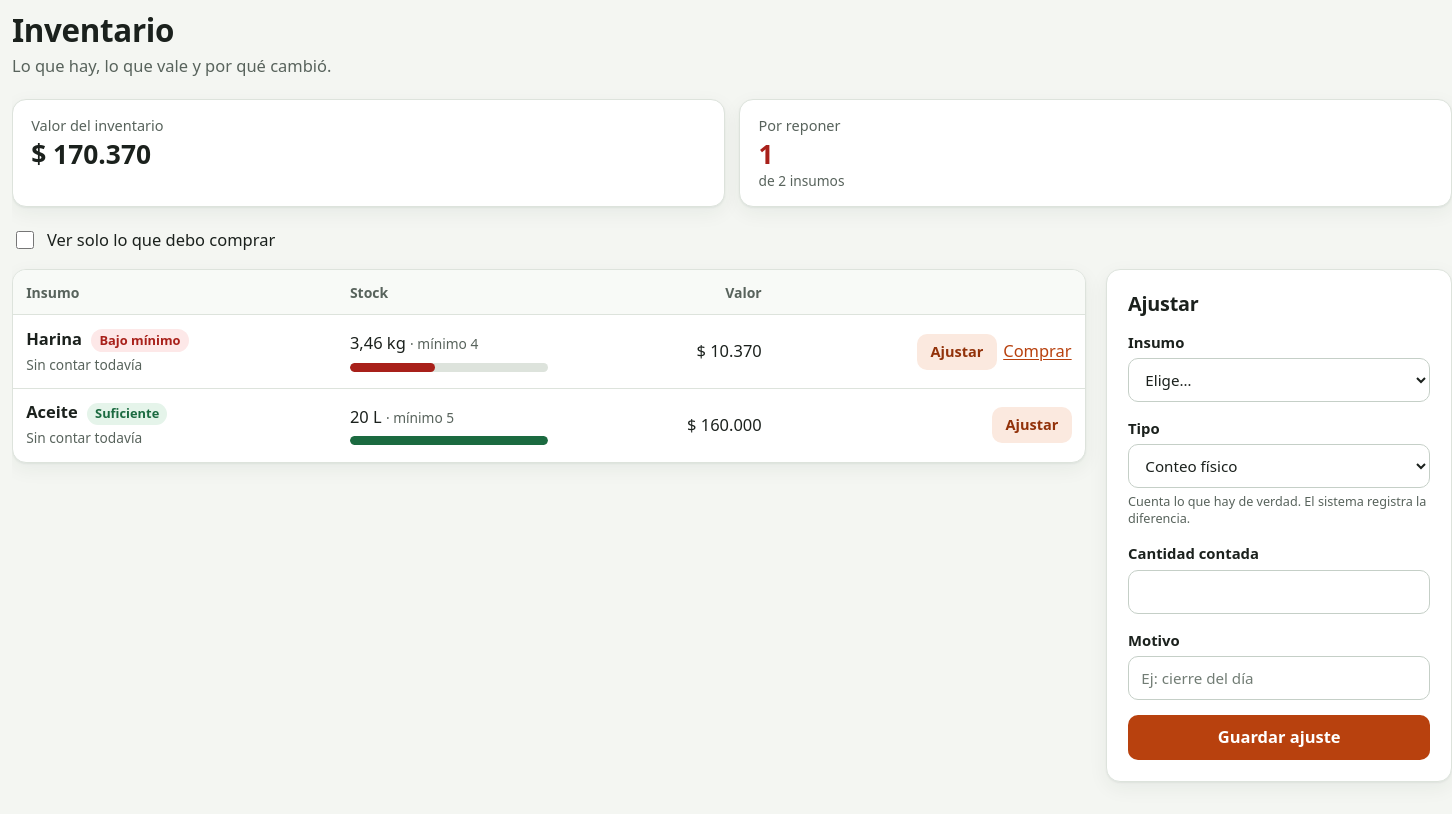
HU-30 Inventario claro (funcionales) › CA-4: ajustar desde la fila deja elegido el insumo y dice cuánto hay
Click the button with aria-label "Ajustar Harina".
click(957, 352)  # box x1=917 y1=334 x2=997 y2=370
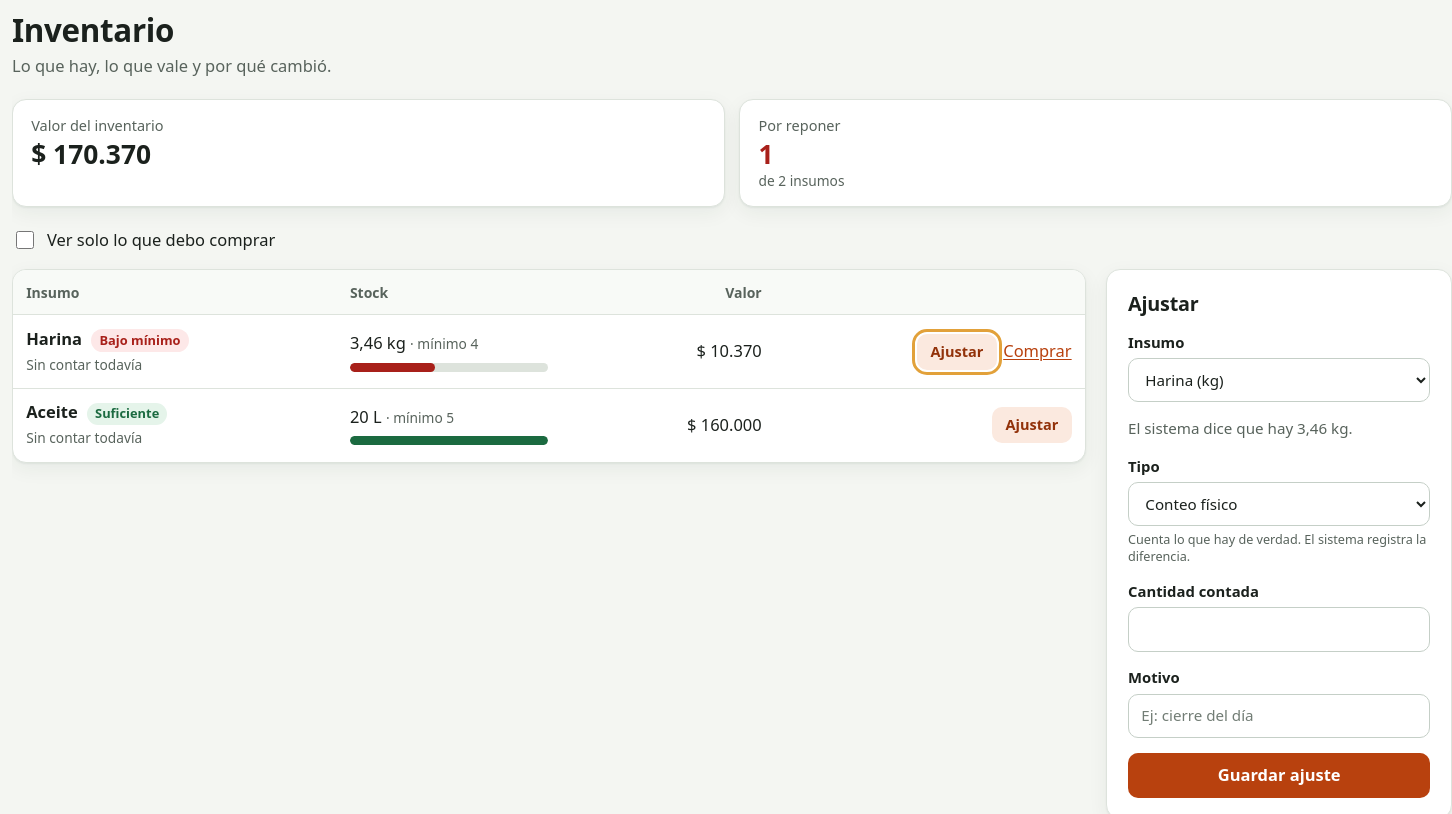
Result: the dropdown labelled "Insumo" shows "Harina (kg)" at x1=1128 y1=358 x2=1430 y2=402
Result: the text "El sistema dice que hay 3,46 kg." is shown at x1=1128 y1=418 x2=1353 y2=438
